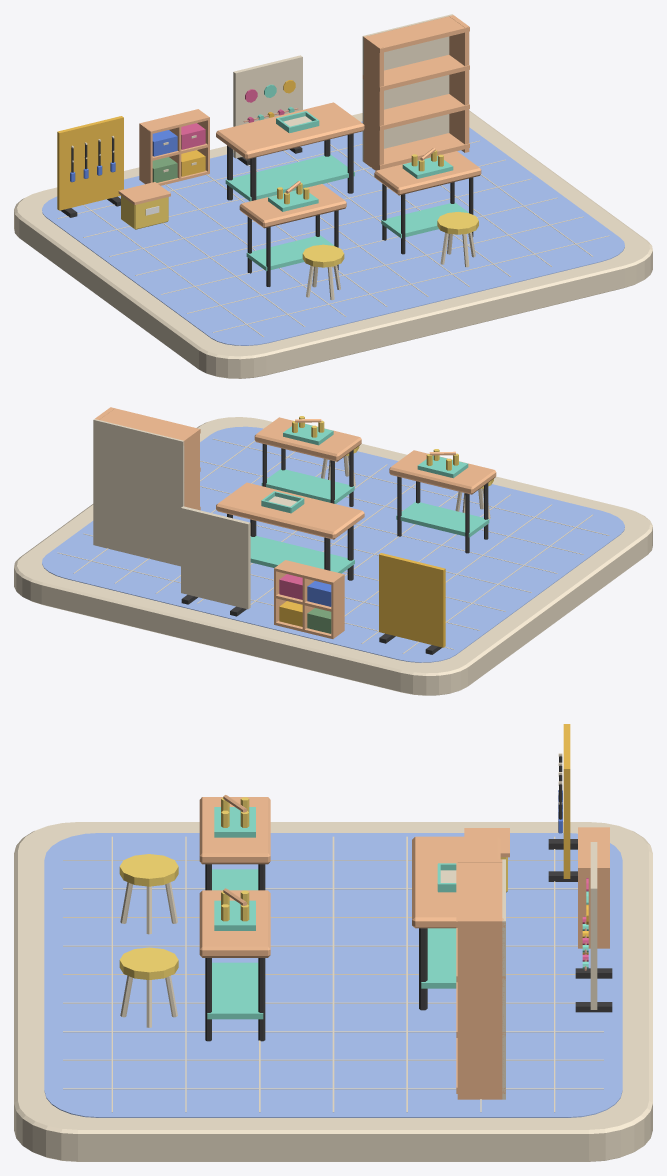
Rendered from room.fbx.
3 renders of one model, top to bottom at view 1: azimuth 30°, elevation 25°; view 2: azimuth 150°, elevation 25°; view 3: azimuth 270°, elevation 25°, orthographic. The views are drawn at different scales.
Visible parts, largest first — view 1: COM-02 Floor Surface, COM-01 Rounded Base Direct, Panel, Back, Worktop.002, Panel.001, Lower shelf.002, Side, Worktop.001, Worktop, Side.001, Shelf.003 (+18 smaller); view 2: COM-02 Floor Surface, COM-01 Rounded Base Direct, Back, Panel.001, Panel, Worktop.002, Worktop, Worktop.001, Lower shelf.002, Lower shelf, Lower shelf.001, Shelf.003 (+10 smaller); view 3: COM-02 Floor Surface, COM-01 Rounded Base Direct, Side.001, Worktop.002, Worktop, Worktop.001, Shelf.003, Lower shelf.001, Cubbies divider.002, Lower shelf.002, Seat, Seat.001 (+17 smaller).
Part boxes in pixels (bbox=[...]): COM-02 Floor Surface: bbox=[42, 121, 624, 345]; COM-01 Rounded Base Direct: bbox=[14, 110, 652, 378]; Panel: bbox=[57, 116, 123, 210]; Back: bbox=[362, 14, 452, 161]; Worktop.002: bbox=[216, 102, 364, 159]; Panel.001: bbox=[233, 55, 302, 158]; Lower shelf.002: bbox=[225, 154, 354, 201]; Side: bbox=[364, 35, 383, 170]; Worktop.001: bbox=[374, 151, 481, 195]; Worktop: bbox=[239, 184, 346, 228]; Side.001: bbox=[449, 15, 469, 152]; Shelf.003: bbox=[364, 16, 469, 53]; COM-02 Floor Surface: bbox=[42, 426, 624, 662]; COM-01 Rounded Base Direct: bbox=[14, 417, 652, 695]; Back: bbox=[93, 419, 184, 566]; Panel.001: bbox=[181, 506, 250, 609]; Panel: bbox=[379, 553, 445, 647]; Worktop.002: bbox=[216, 482, 364, 539]; Worktop: bbox=[389, 450, 496, 494]; Worktop.001: bbox=[254, 417, 361, 461]; Lower shelf.002: bbox=[250, 536, 354, 573]; Lower shelf: bbox=[396, 501, 489, 537]; Lower shelf.001: bbox=[261, 469, 354, 503]; Shelf.003: bbox=[100, 407, 200, 445]; COM-02 Floor Surface: bbox=[44, 833, 622, 1117]; COM-01 Rounded Base Direct: bbox=[14, 822, 652, 1161]; Side.001: bbox=[457, 918, 504, 1099]; Worktop.002: bbox=[412, 836, 500, 928]; Worktop: bbox=[199, 797, 270, 864]; Worktop.001: bbox=[199, 890, 270, 957]; Shelf.003: bbox=[456, 859, 505, 927]; Lower shelf.001: bbox=[207, 962, 263, 1019]; Cubbies divider.002: bbox=[578, 868, 609, 948]; Lower shelf.002: bbox=[421, 928, 456, 988]; Seat: bbox=[119, 854, 178, 886]; Seat.001: bbox=[119, 947, 178, 979].
Size of the model in its own units: 600 by 190 by 520.
